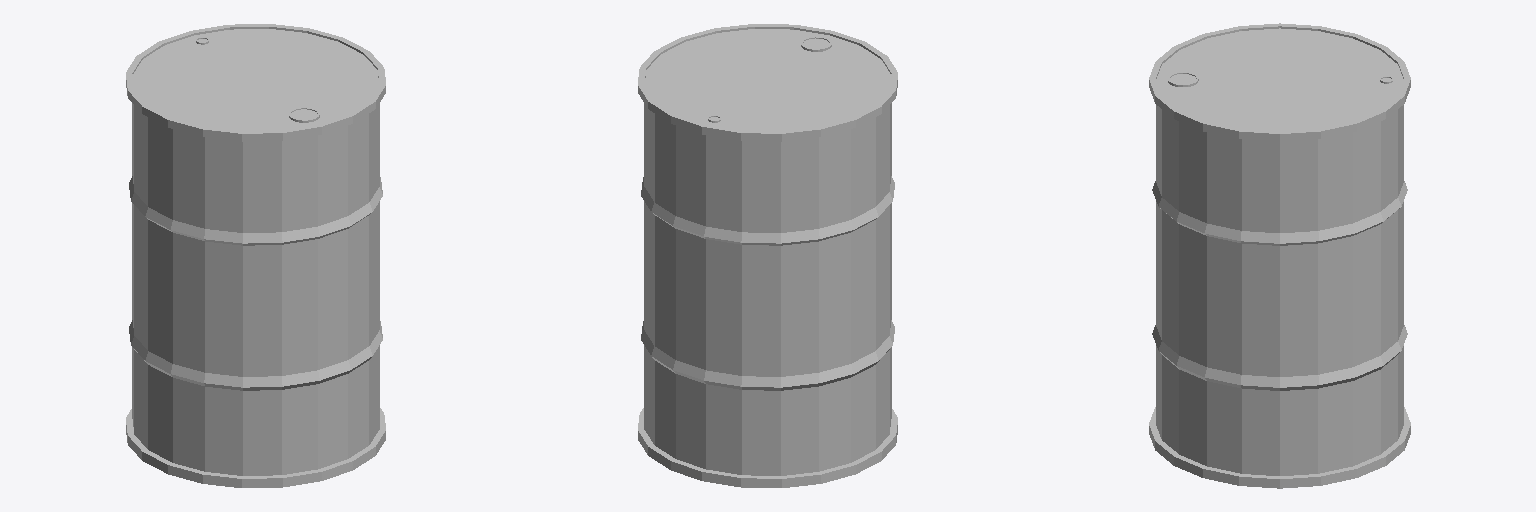
The model's file is Barrel.obj.
The picture shows the model from 3 angles: view 1: azimuth 30°, elevation 25°; view 2: azimuth 150°, elevation 25°; view 3: azimuth 270°, elevation 25°; orthographic projection.
Parts seen in each view (by area): view 1: Barrel; view 2: Barrel; view 3: Barrel.
Part boxes in pixels (x1,y1,x2,y2): Barrel: (126,24,385,487); Barrel: (638,24,897,487); Barrel: (1149,23,1410,488).
Bounding box in the file's own units: 2.11 × 3.15 × 2.11.